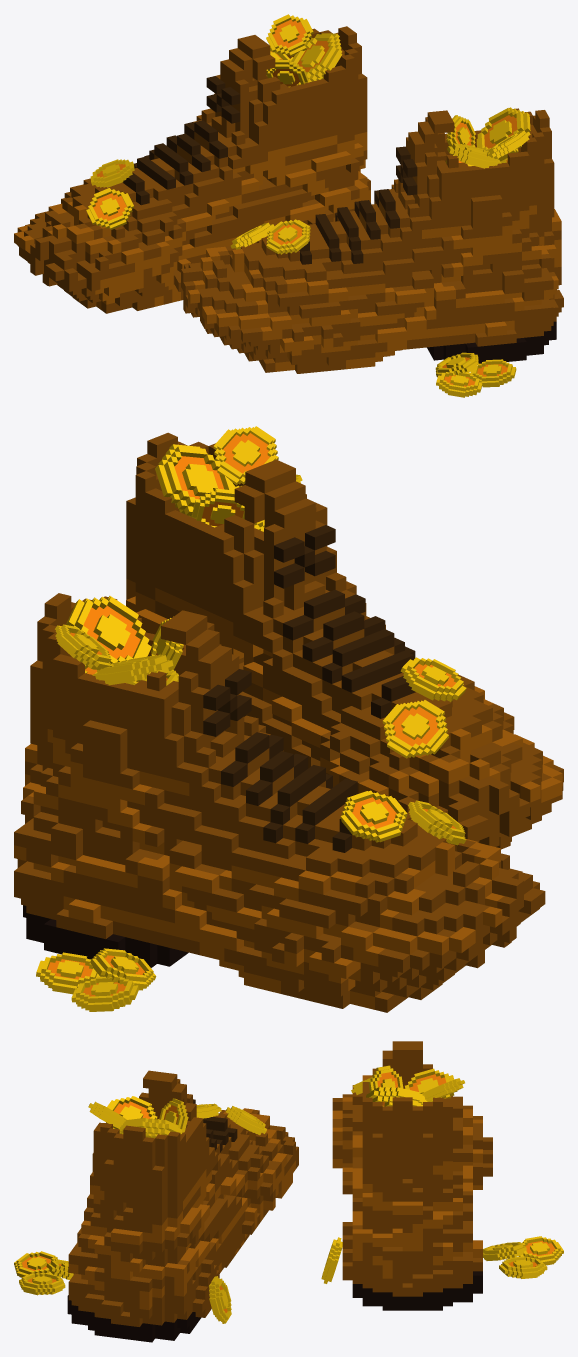
The model's file is Boots.fbx.
The picture shows the model from 3 angles, top to bottom: view 1: azimuth 30°, elevation 25°; view 2: azimuth 150°, elevation 25°; view 3: azimuth 270°, elevation 25°; orthographic projection. The views are drawn at different scales.
Visible parts, largest first — view 1: Untitled; view 2: Untitled; view 3: Untitled.
Part boxes in pixels (box(x1,y1,x2,y2)): Untitled: box(14, 14, 563, 397); Untitled: box(14, 426, 563, 1012); Untitled: box(14, 1041, 563, 1342).
Bounding box in the file's own units: 455 × 241 × 548.
